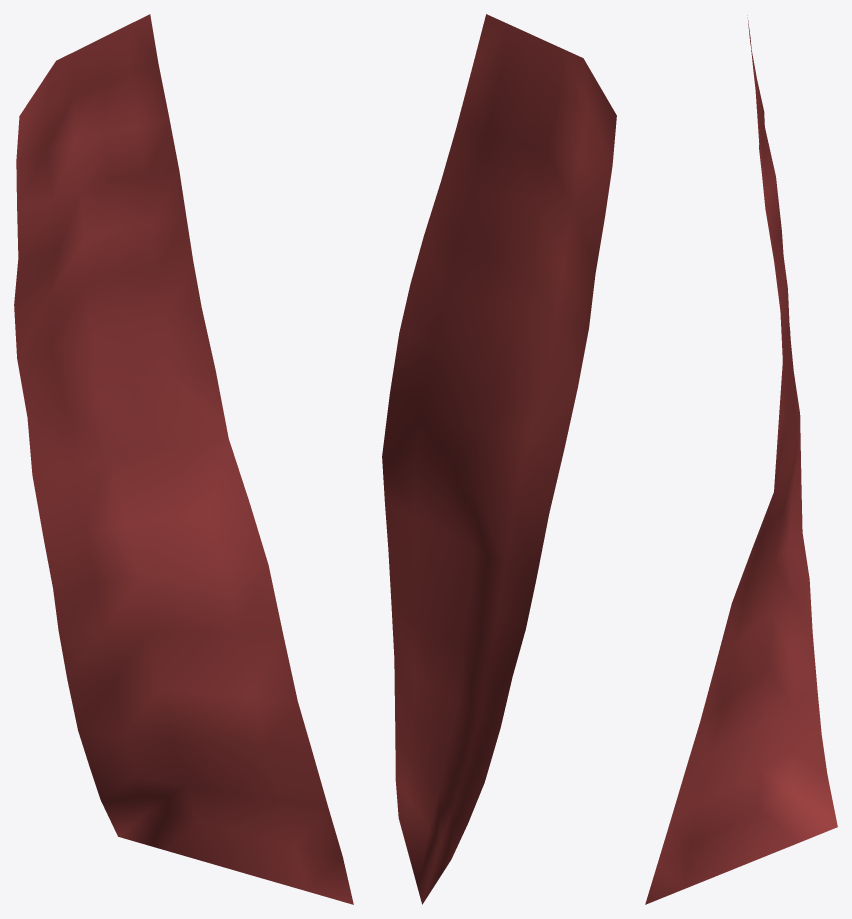
Rendered from lateral-intermuscular-septum-of-arm-l.glb.
3 renders of one model, left to right at view 1: azimuth 30°, elevation 25°; view 2: azimuth 150°, elevation 25°; view 3: azimuth 270°, elevation 25°, orthographic. The views are drawn at different scales.
Visible parts, largest first — view 1: Lateral intermuscular septum of arm.l; view 2: Lateral intermuscular septum of arm.l; view 3: Lateral intermuscular septum of arm.l.
Part boxes in pixels (x1,y1,x2,y2): Lateral intermuscular septum of arm.l: (14,14,353,904); Lateral intermuscular septum of arm.l: (382,14,616,904); Lateral intermuscular septum of arm.l: (645,15,837,904).
Bounding box in the file's own units: 0.0325 × 0.0992 × 0.0216.
